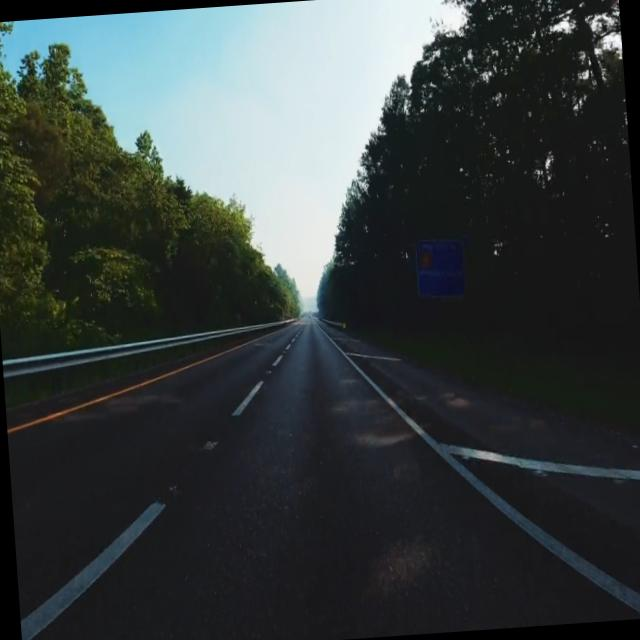asphalt: (7, 318, 640, 640)
grass: (329, 321, 640, 428), (3, 324, 285, 406)
